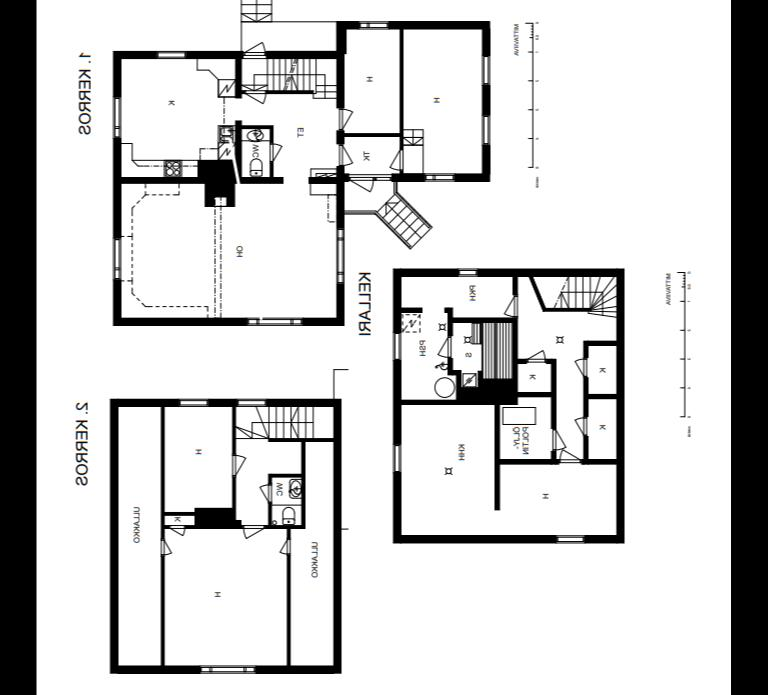bathroom: (270, 474, 302, 524), (238, 126, 270, 176)
door: (556, 444, 584, 466), (240, 520, 270, 540), (433, 330, 454, 358), (334, 105, 358, 129), (336, 138, 356, 166), (348, 172, 377, 191), (388, 146, 408, 172), (503, 294, 524, 318), (572, 352, 592, 377), (242, 86, 268, 105), (228, 451, 249, 474), (243, 40, 268, 58), (526, 346, 548, 364), (550, 427, 566, 450), (572, 408, 586, 434), (267, 140, 284, 161), (276, 532, 292, 554), (158, 533, 174, 554), (257, 480, 271, 500), (168, 523, 187, 537)
perimeter: (111, 15, 493, 326), (390, 264, 627, 546), (107, 394, 343, 675)
stairs: (236, 404, 316, 442), (377, 192, 434, 245), (552, 274, 618, 316), (266, 58, 318, 88), (238, 0, 269, 14)
window: (332, 222, 346, 285), (246, 313, 306, 327), (478, 106, 496, 148), (110, 232, 124, 282), (110, 92, 124, 140), (478, 48, 494, 90), (388, 435, 404, 476), (554, 531, 590, 548), (354, 16, 394, 31), (154, 46, 194, 60), (419, 169, 459, 183), (388, 327, 404, 361), (454, 262, 482, 280)
